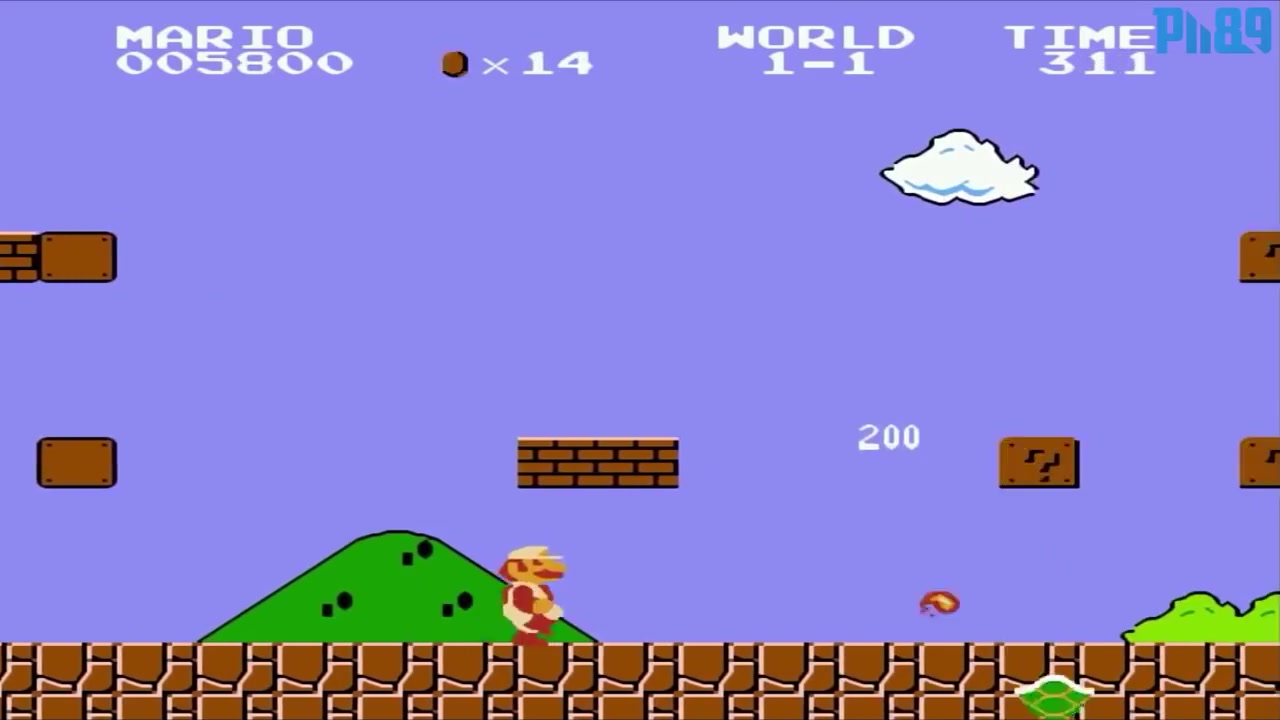mario: (492, 540, 572, 644)
